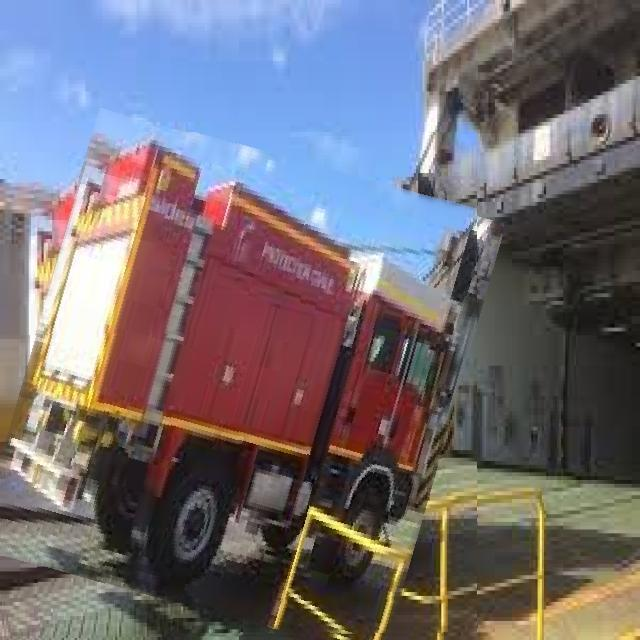Protection Civile: (0, 132, 477, 639)
